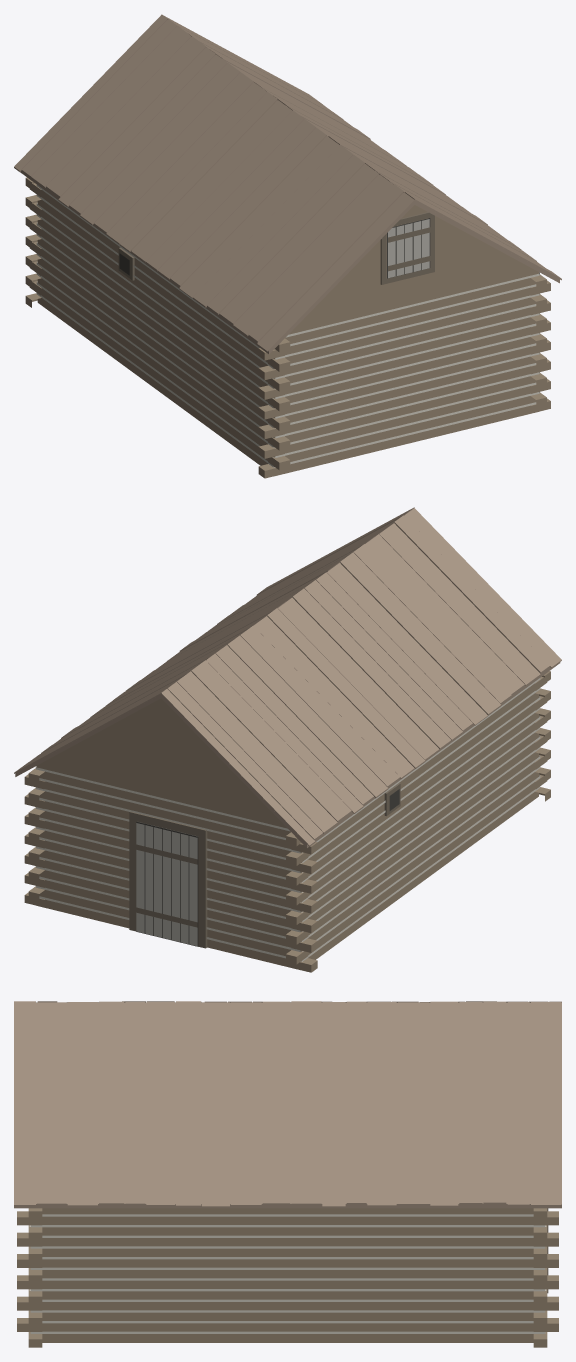
The model's file is recon_1835_blk_randolph_market_a1_12__inferred_1835.glb.
3 renders of one model, top to bottom at view 1: azimuth 30°, elevation 25°; view 2: azimuth 150°, elevation 25°; view 3: azimuth 270°, elevation 25°, orthographic. The views are drawn at different scales.
Parts seen in each view (by area): view 1: recon_1835_blk_randolph_market_a1_12__inferred_1835; view 2: recon_1835_blk_randolph_market_a1_12__inferred_1835; view 3: recon_1835_blk_randolph_market_a1_12__inferred_1835.
Part boxes in pixels (left/top/right/bottom): recon_1835_blk_randolph_market_a1_12__inferred_1835: left=14, top=14, right=561, bottom=478; recon_1835_blk_randolph_market_a1_12__inferred_1835: left=14, top=507, right=561, bottom=972; recon_1835_blk_randolph_market_a1_12__inferred_1835: left=14, top=1001, right=561, bottom=1347.
Size of the model in its own units: 6.48 by 5.24 by 9.58.
